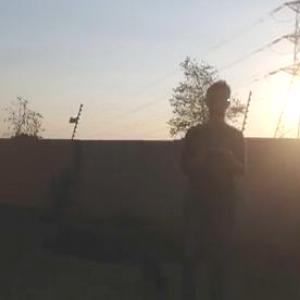follow: (172, 74, 249, 299)
